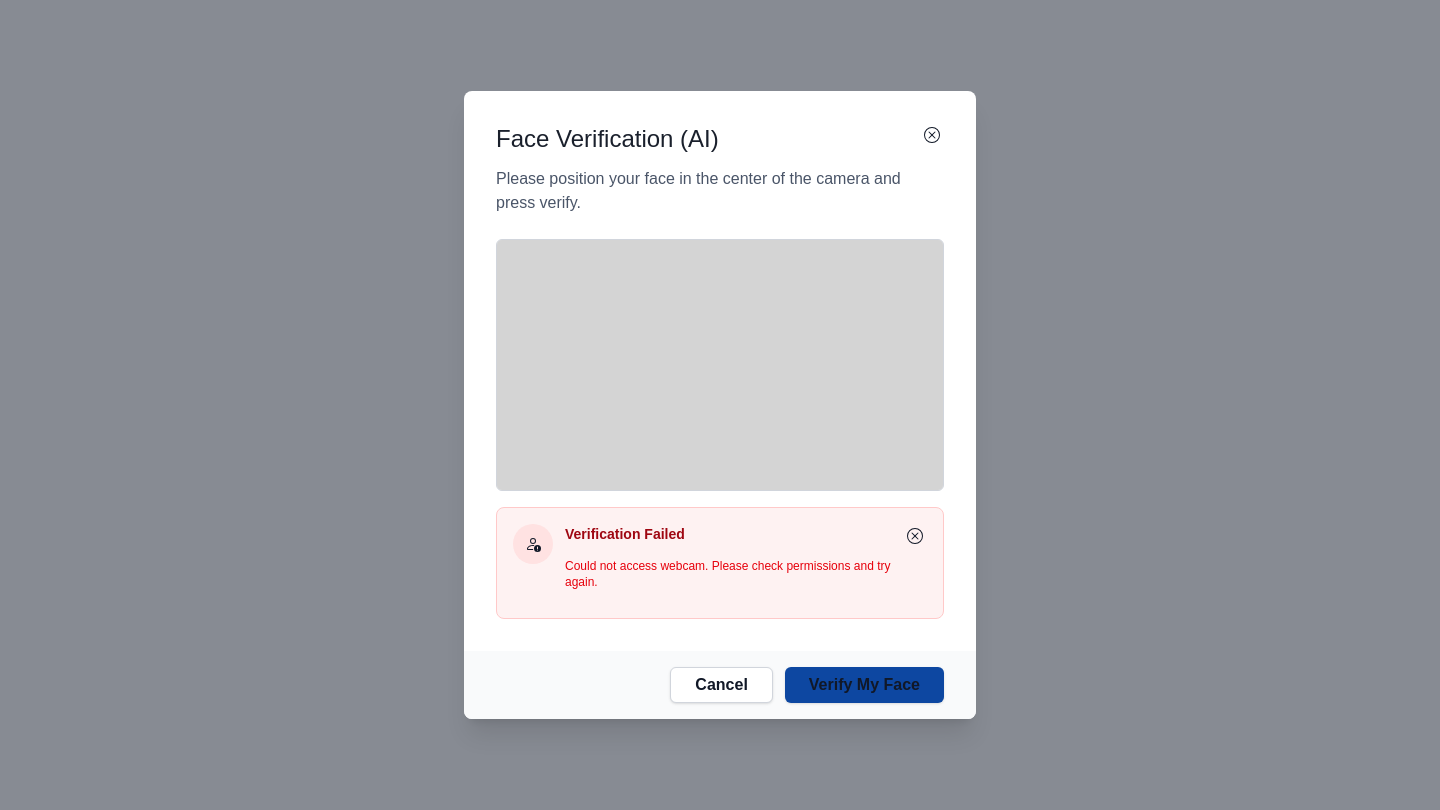
Test: TestFaceVerificationModal — Face verification logic khi vào thi › VF-014 — should_show_error_when_user_has_no_profile_image
The image size is (1440, 810).
Click the button "Verify My Face". click: coordinates (864, 685)
box: [785,667,944,703]
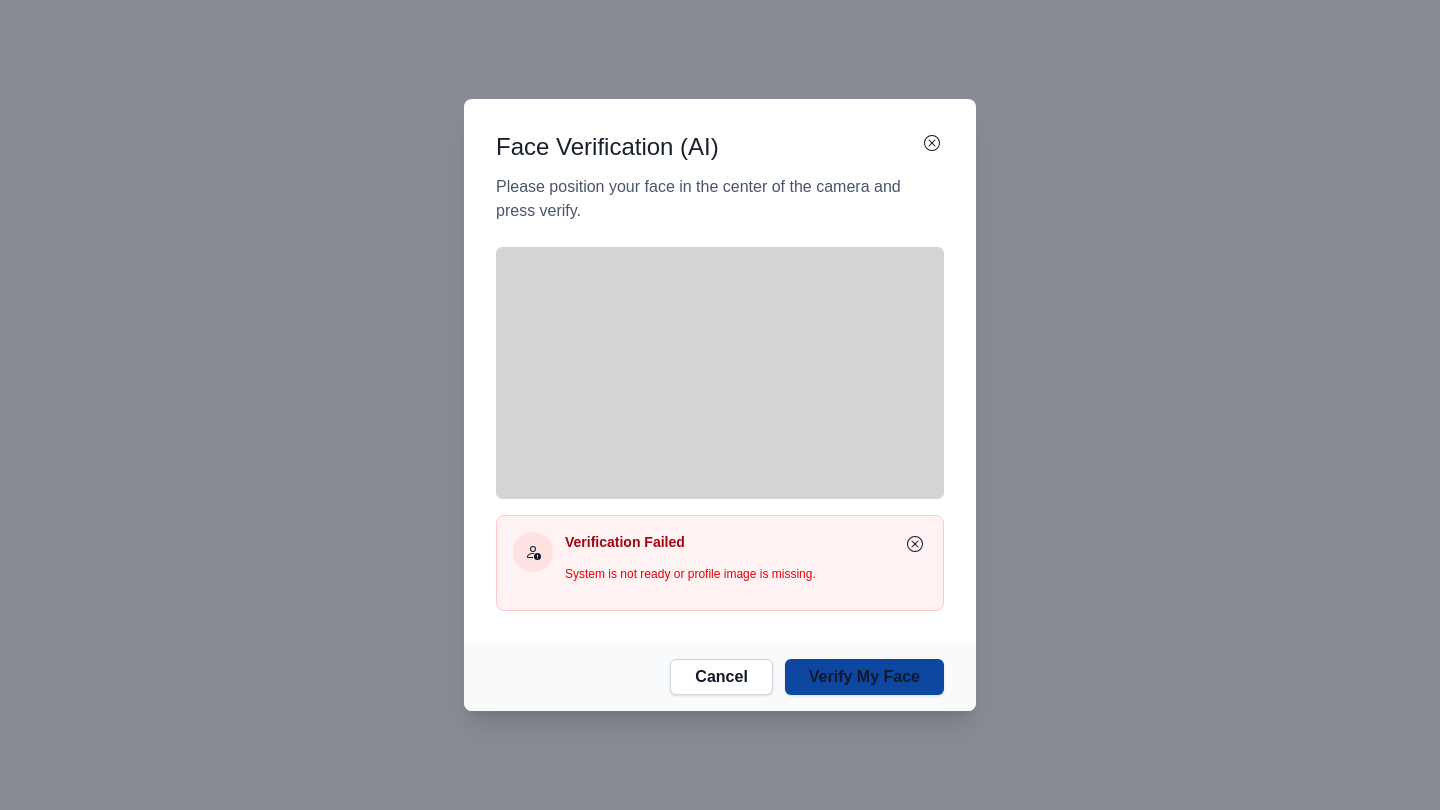
Now the text "System is not ready or profile image is missing." is shown, box [565,567,816,581]
